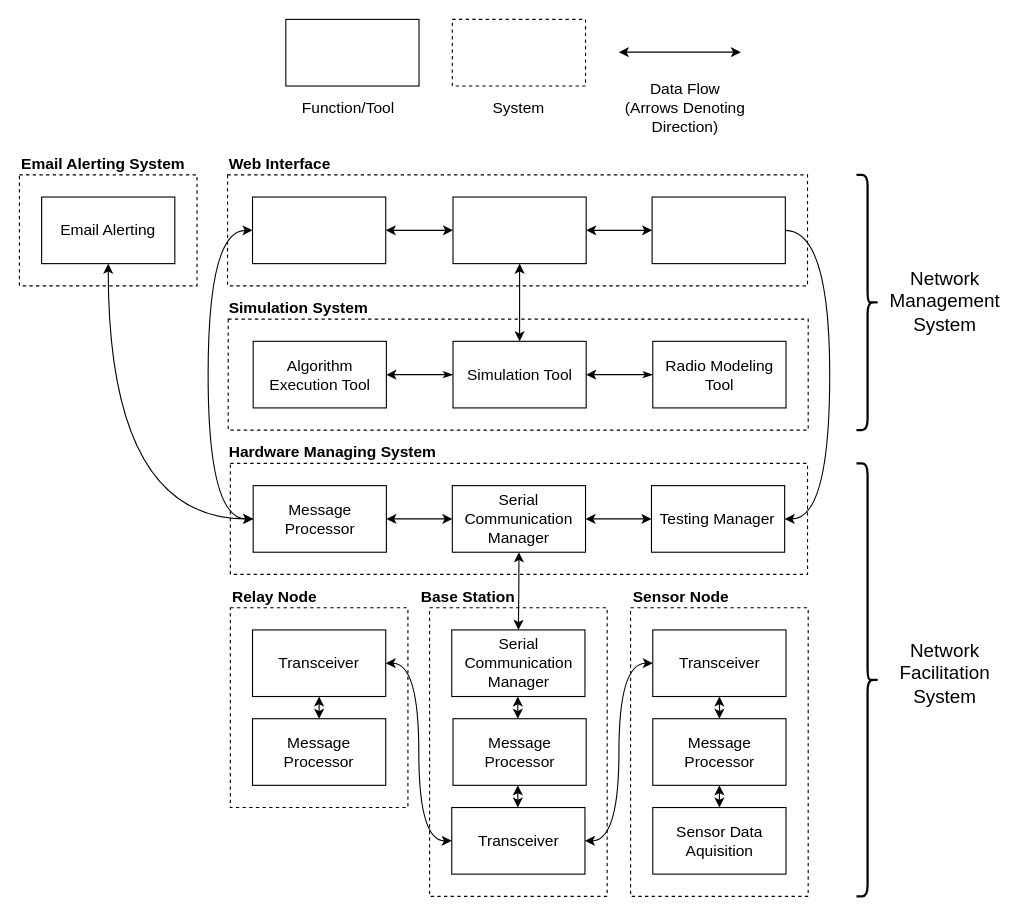
Some shapes in this 1020 by 917 pixel diagram are drawn without their labels. The box of each missing label's shape, as (x1, y1, x2, y2) in pixels:
Network Assembly Tool: (452, 196, 586, 264)
Network Control/Monitoring Tool: (251, 196, 386, 264)
Network Testing Tool: (651, 196, 785, 264)
